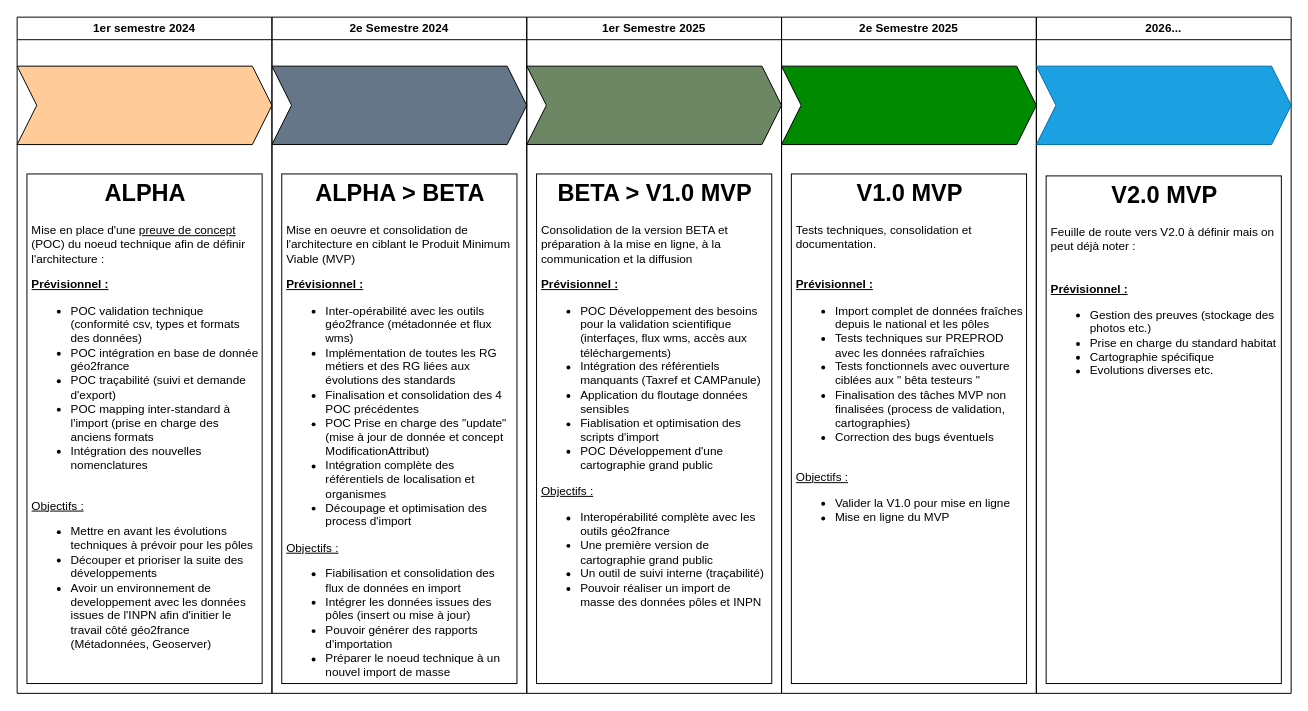
Image size: 1308x711. Some labels were removed from this diagram. The shapes that lost their labels are listed below. From the top down, each one's centre as x and y in pixels, then its label:
the point at 144,105: ALPHA (Version 0)
the point at 399,105: BETA (Version 0 > Version 1.0 MVP)
the point at 654,105: PREPROD - V1.0 MVP
the point at 908,105: PROD - V1.0 MVP Testée et validée
the point at 1163,105: V1.0 à V2.0 MVP
